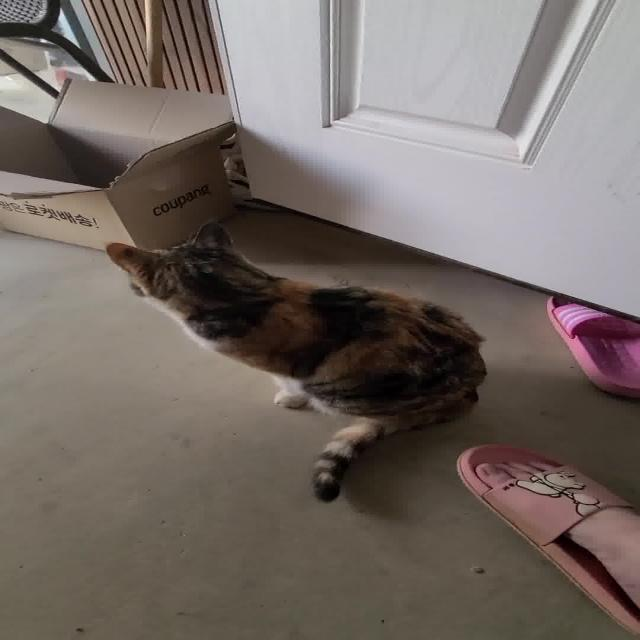cat: (98, 216, 490, 504)
